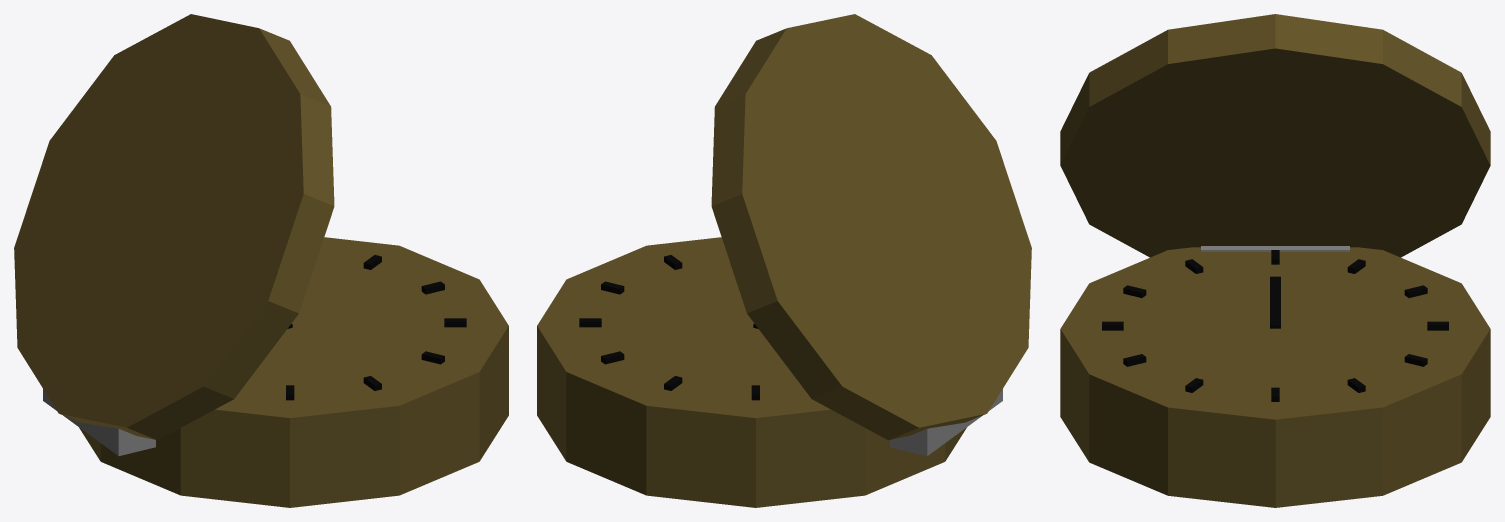
File: RiftWalkerTicking.fbx
3 views of the same model, side by side, from view 1: azimuth 30°, elevation 25°; view 2: azimuth 150°, elevation 25°; view 3: azimuth 270°, elevation 25° (orthographic).
Parts seen in each view (by area): view 1: pCylinder2, pCylinder1, pCube1; view 2: pCylinder2, pCylinder1, pCube1; view 3: pCylinder1, pCylinder2, pCube1, pCube14.
Part boxes in pixels (x1,y1,x2,y2): pCylinder2: (14, 14, 334, 440); pCylinder1: (79, 237, 508, 507); pCube1: (43, 389, 155, 455); pCylinder2: (711, 14, 1031, 440); pCylinder1: (537, 237, 966, 507); pCube1: (890, 389, 1002, 455); pCylinder1: (1060, 247, 1490, 507); pCylinder2: (1060, 14, 1490, 257); pCube1: (1201, 246, 1349, 251); pCube14: (1270, 276, 1280, 328).
Size of the model in its own units: 0.8306 by 0.7447 by 0.7477.
